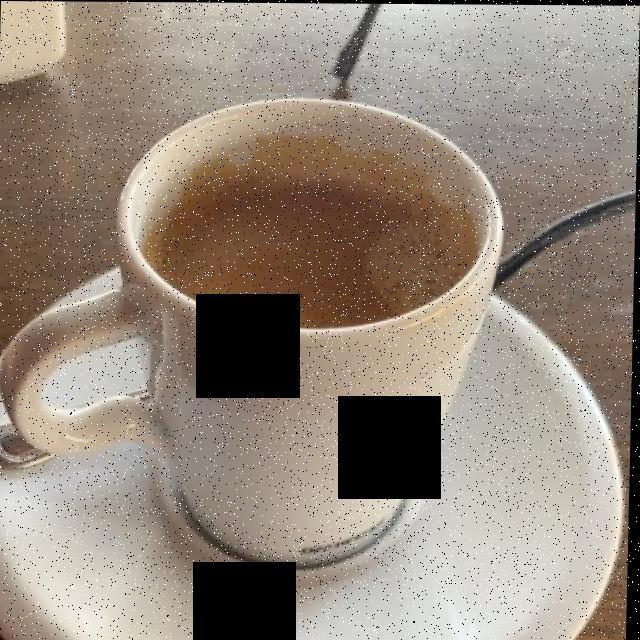espresso: (143, 142, 471, 324)
